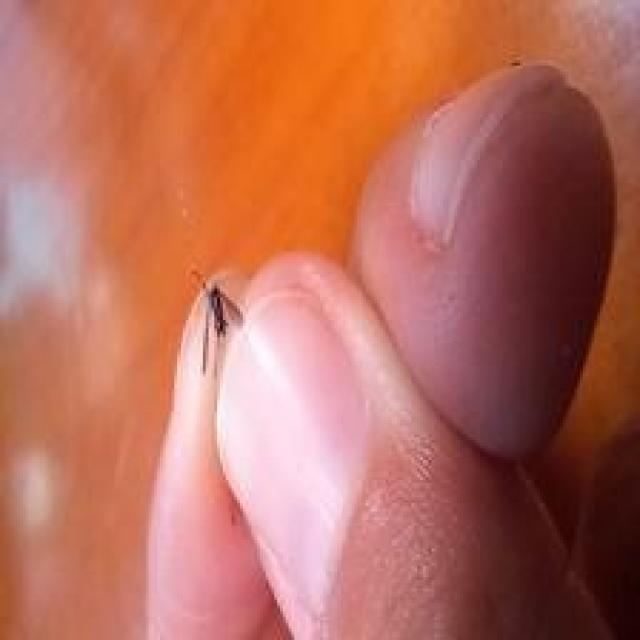Aedes albopictus: (188, 267, 246, 376)
